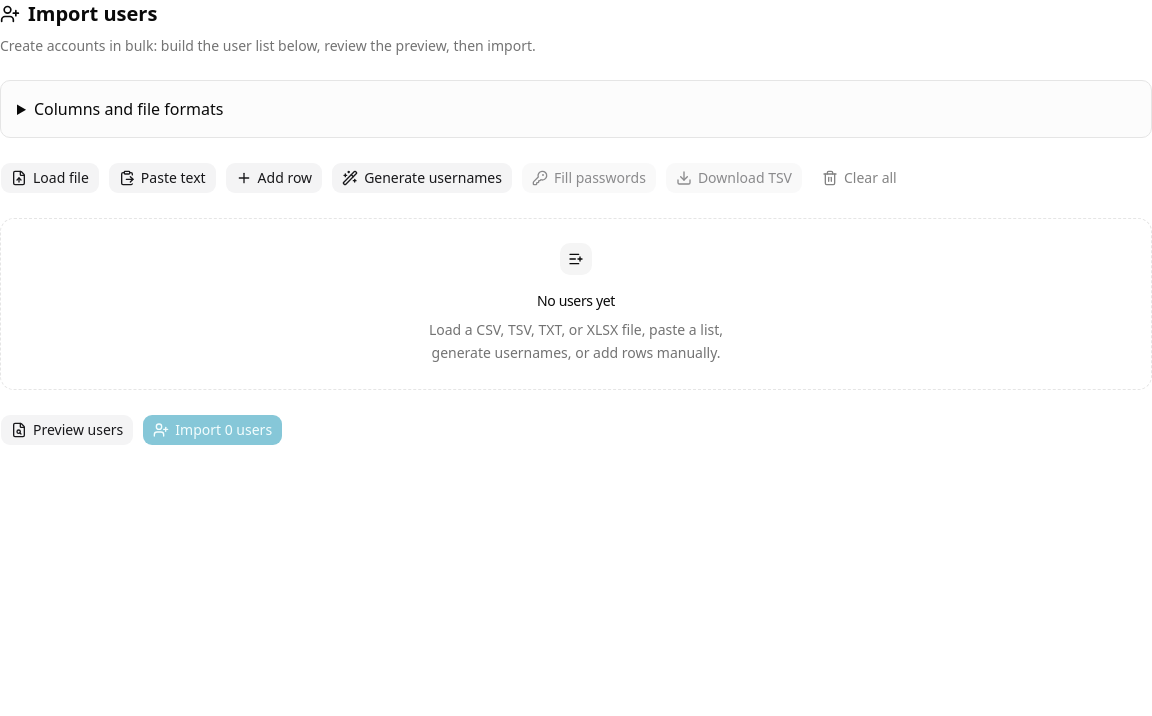
Test case: user import workflow › applies a dialog when Enter is pressed in a field
Click the button "Generate usernames". click: (422,178)
box: [331,162,513,194]
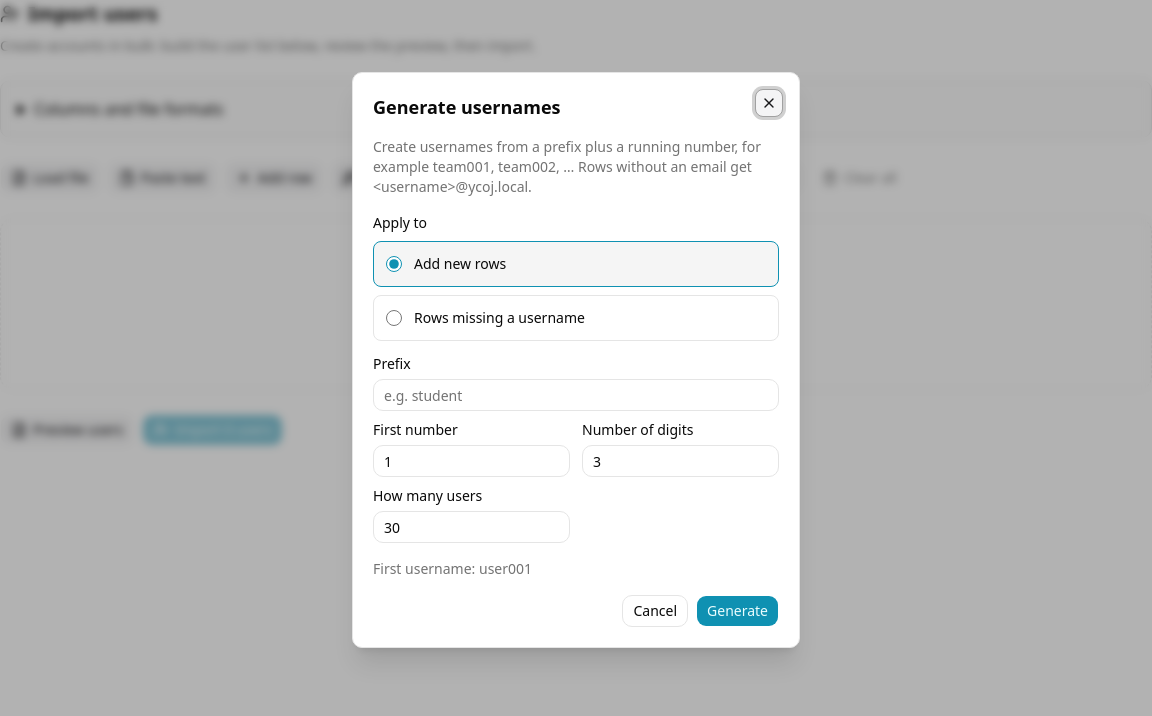
Type "team" into the field labelled "Prefix". click: (576,395)
box: [373,379,779,411]
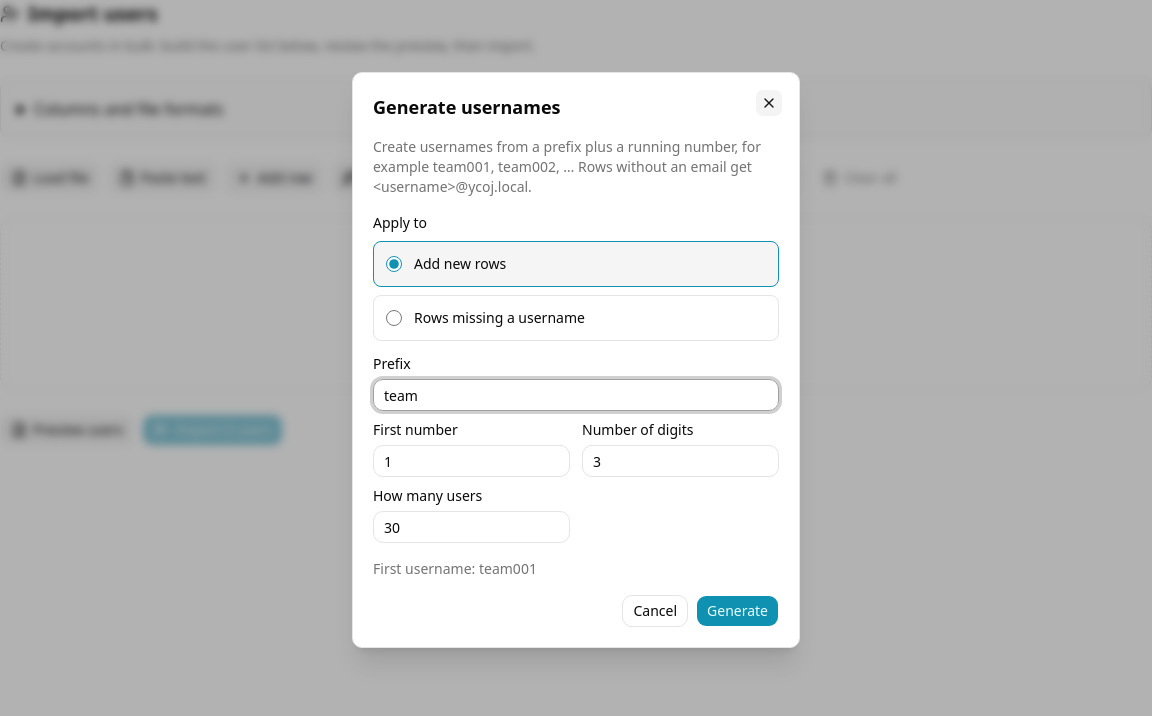
Press Enter
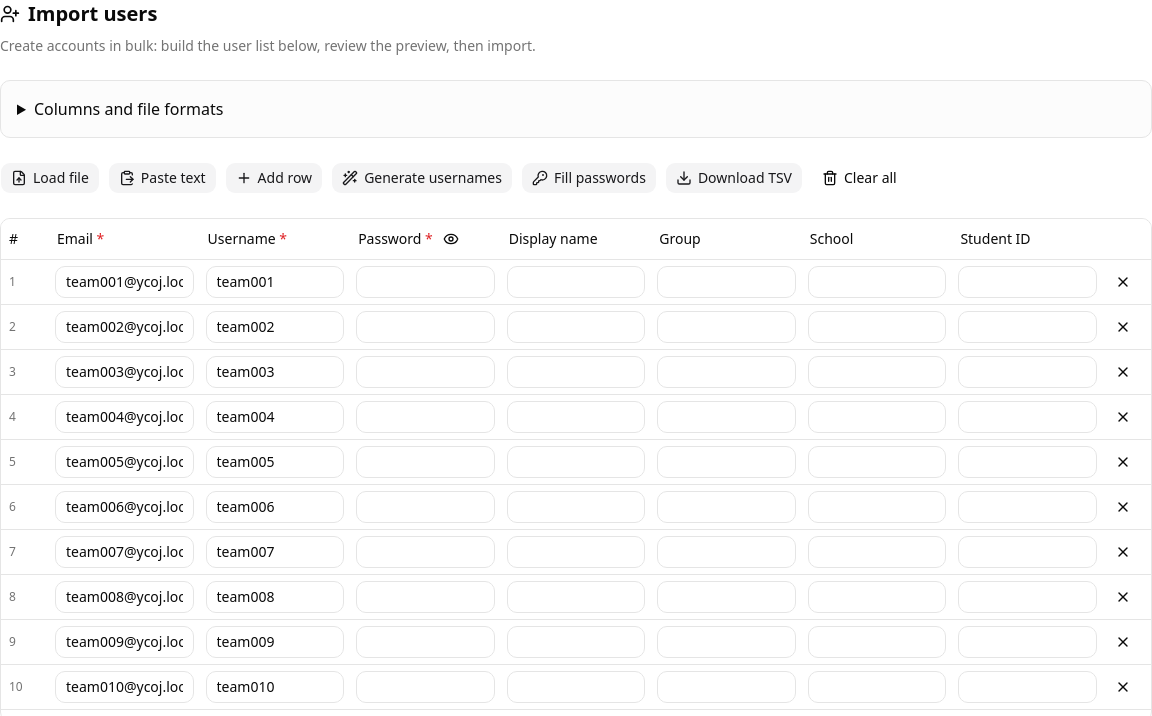
Check: the dialog is gone
Check: the field named "Row 1 Username" holds "team001", box [206,266,344,298]
